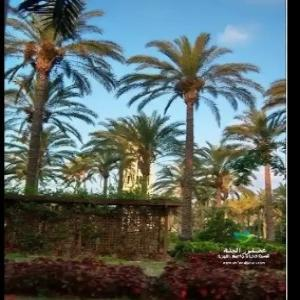palm tree: (115, 31, 262, 241), (3, 0, 125, 195), (221, 107, 285, 240)
